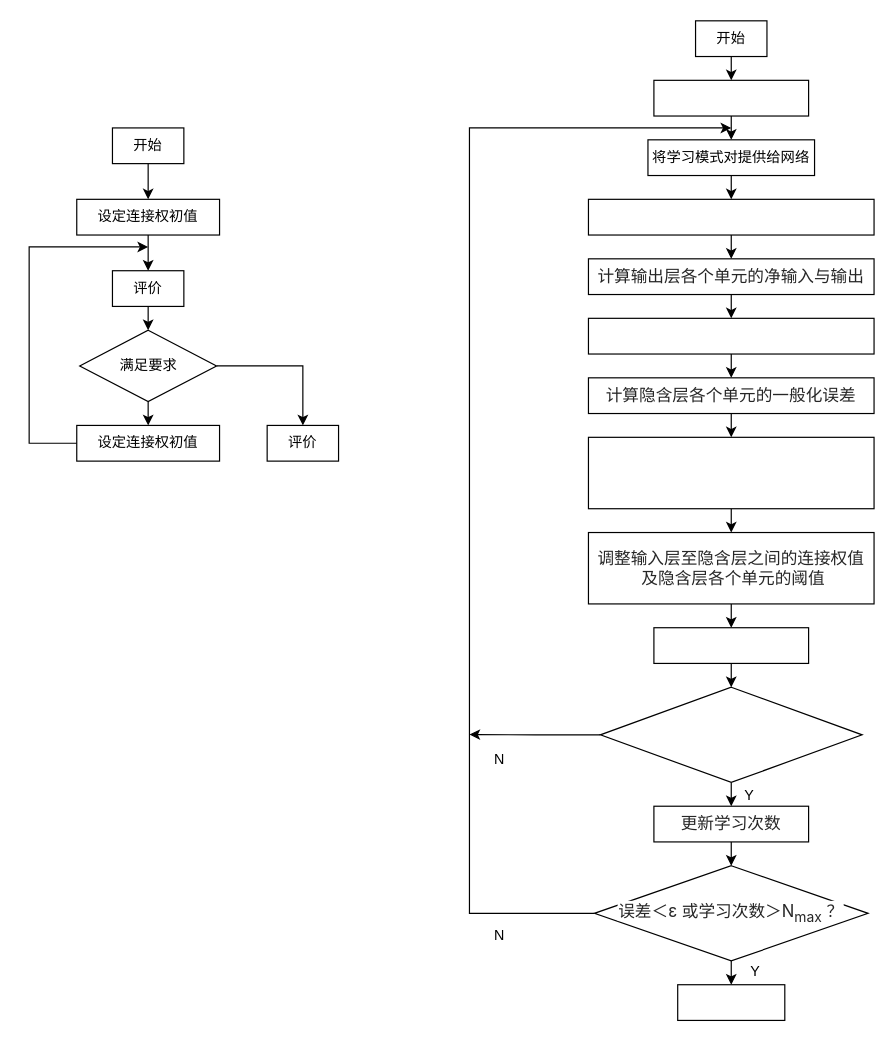
This 895x1041 diagram has some shape labels left out. The shapes that lost their labels are listed below. From the top down, each one's centre as x and y in pixels, then its label:
At (731,97): "连接权值及阈值初始化".
At (730,216): "计算隐含层各个单元的净输入与输出".
At (730,335): "计算输出层各个单元的一般化误差".
At (730,472): "调整隐含层至输出层之间的连接权值 及输出层各个单元的阈值".
At (731,645): "更新学习模式对".
At (730,734): "全部学习模式训练完毕？".
At (731,1002): "学习结束".
